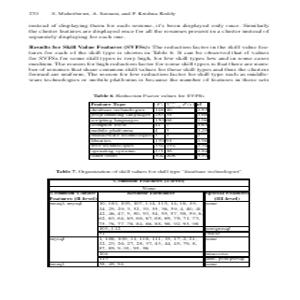table: (46, 176, 252, 269), (84, 98, 212, 162)
text: (18, 7, 273, 97)
